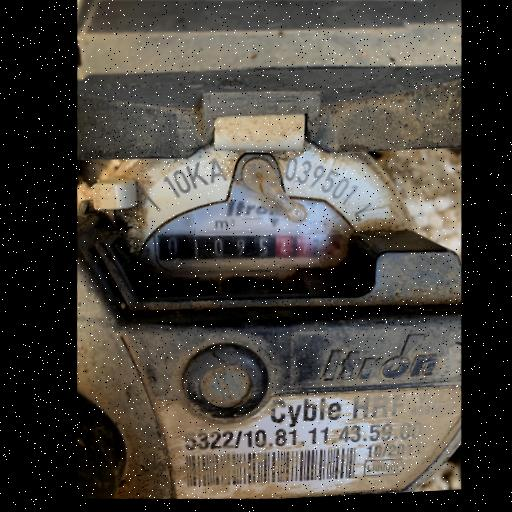0: (164, 234, 183, 260), (209, 235, 228, 261)
1: (186, 234, 205, 261)
4: (275, 235, 294, 259)
5: (254, 233, 275, 259)
7: (295, 234, 314, 258)
9: (231, 235, 250, 261)
border_water_meter_number: (152, 220, 352, 283)
